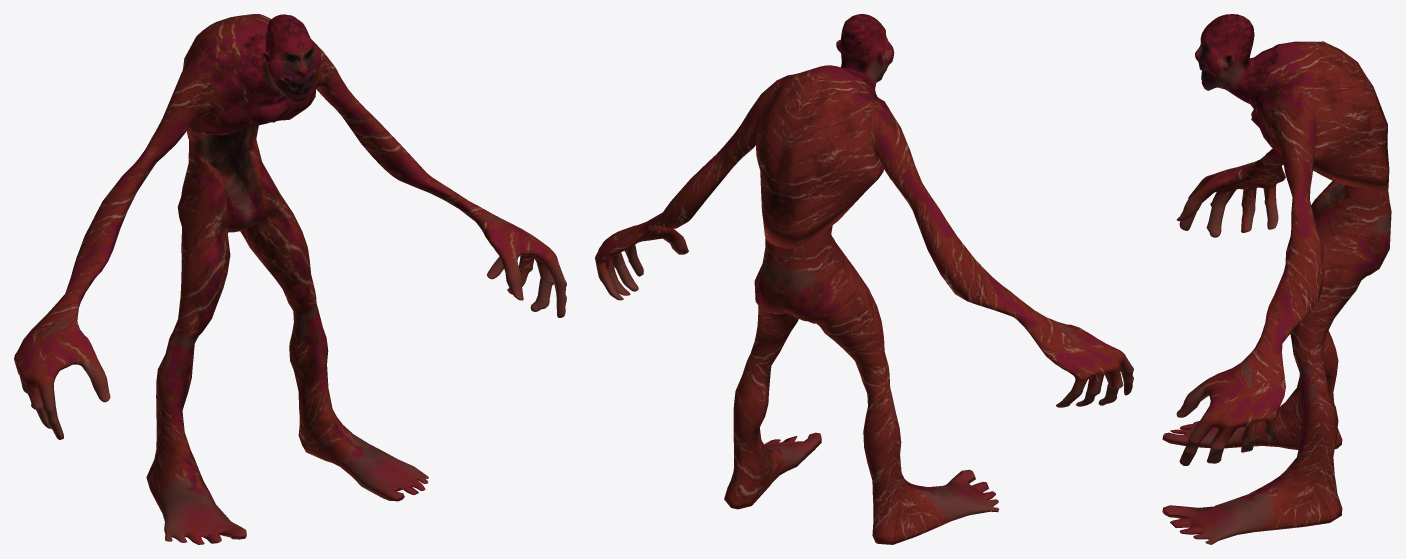
Rendered from Takau.fbx.
3 renders of one model, left to right at view 1: azimuth 30°, elevation 25°; view 2: azimuth 150°, elevation 25°; view 3: azimuth 270°, elevation 25°, orthographic. The views are drawn at different scales.
Visible parts, largest first — view 1: Badan, Kepala; view 2: Badan, Kepala; view 3: Badan, Kepala.
Boxes of the visible parts, x1,y1,x2,y2 form: Badan: (14, 14, 566, 544); Kepala: (238, 14, 320, 102); Badan: (595, 65, 1133, 544); Kepala: (823, 14, 894, 92); Badan: (1162, 41, 1391, 544); Kepala: (1195, 14, 1280, 104).
Bounding box in the file's own units: 496 × 438 × 194.
